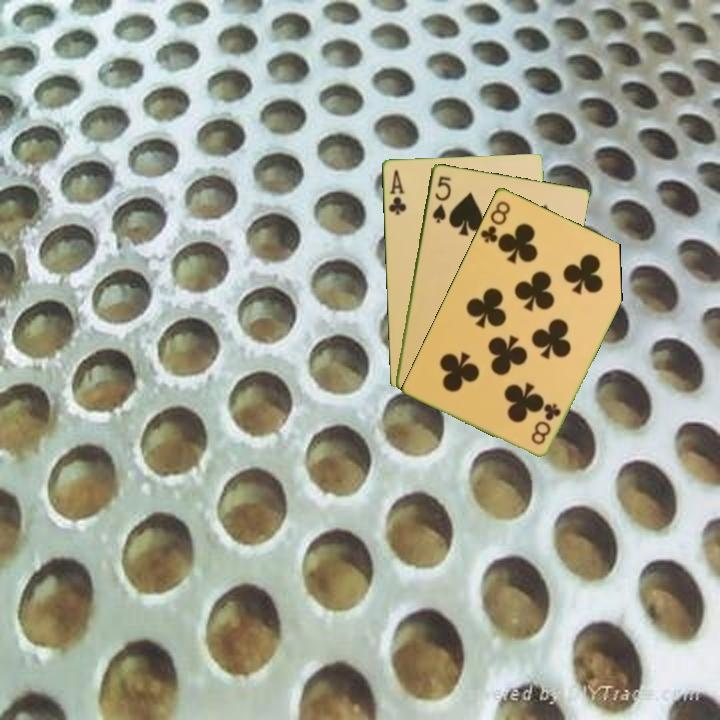5s: (428, 172, 453, 226)
8c: (527, 399, 564, 447), (477, 197, 513, 245)
Ac: (385, 166, 409, 217)
